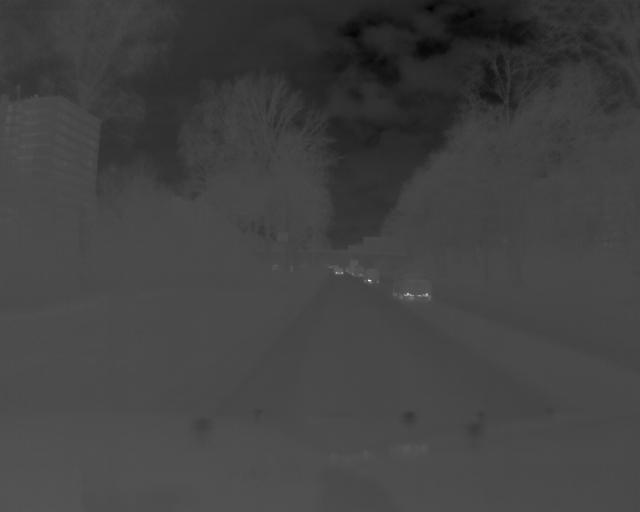car: (390, 268, 435, 304), (362, 266, 382, 285)
